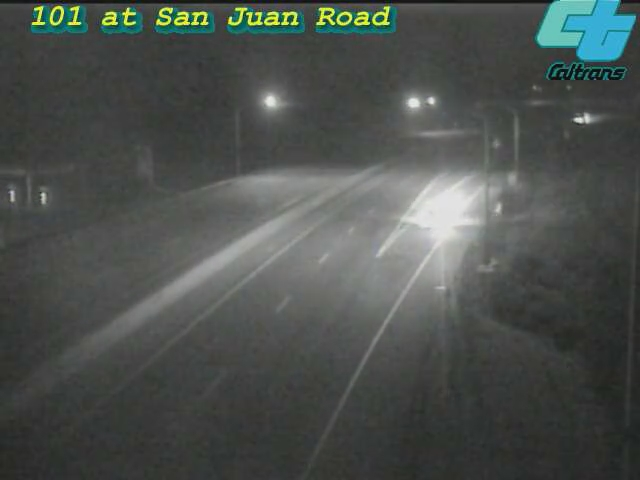vehicle: (396, 179, 476, 259), (554, 94, 604, 144)
